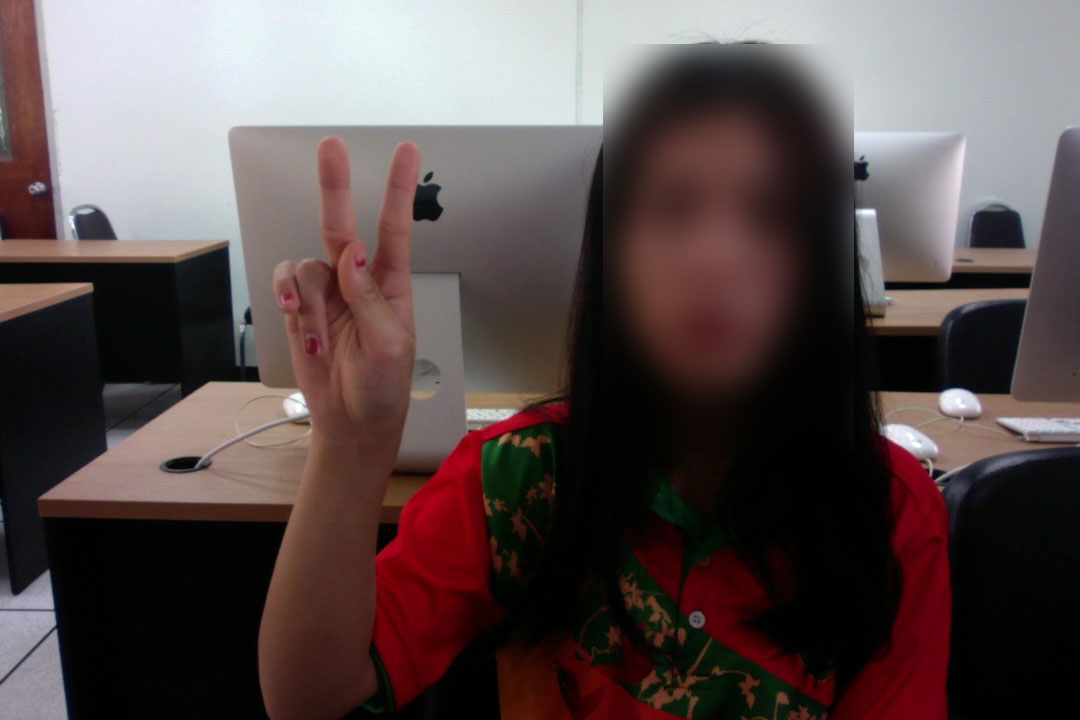ko: (271, 128, 434, 453)
